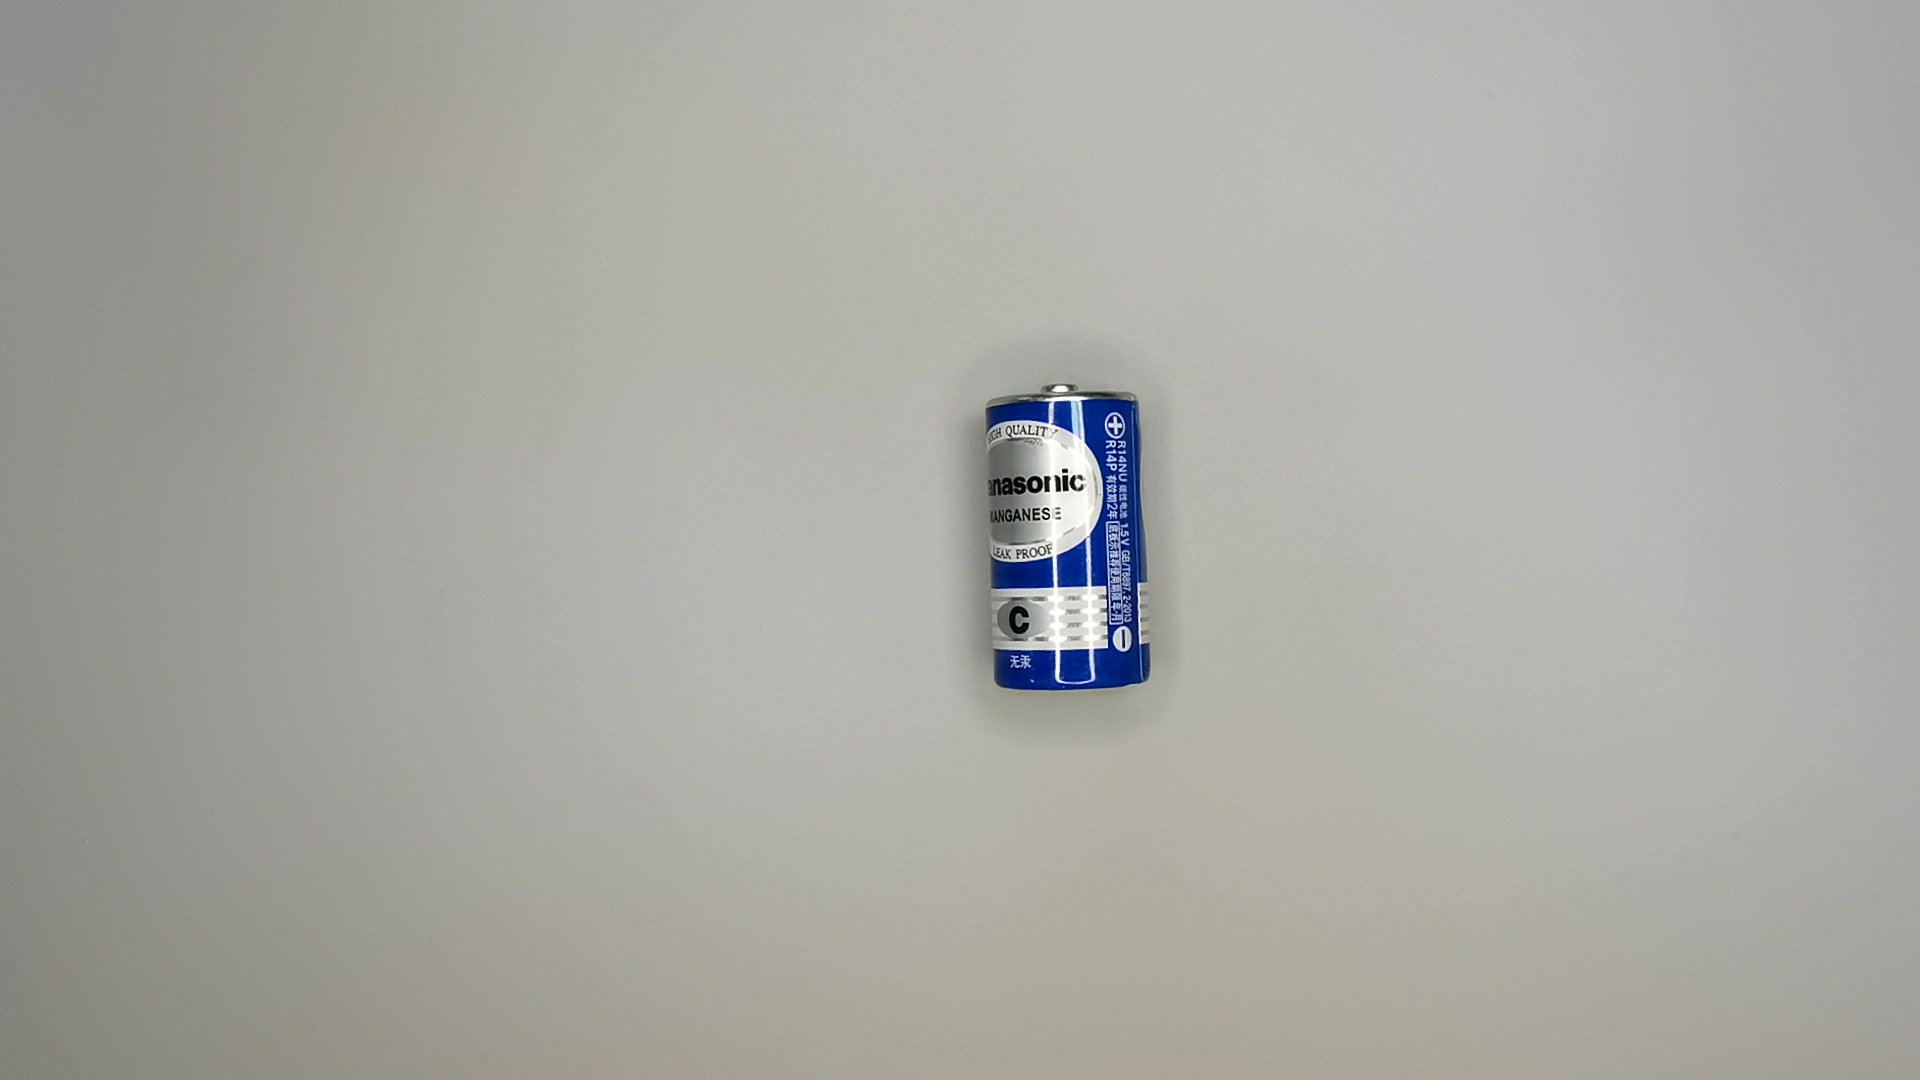battery: (975, 378, 1159, 698)
